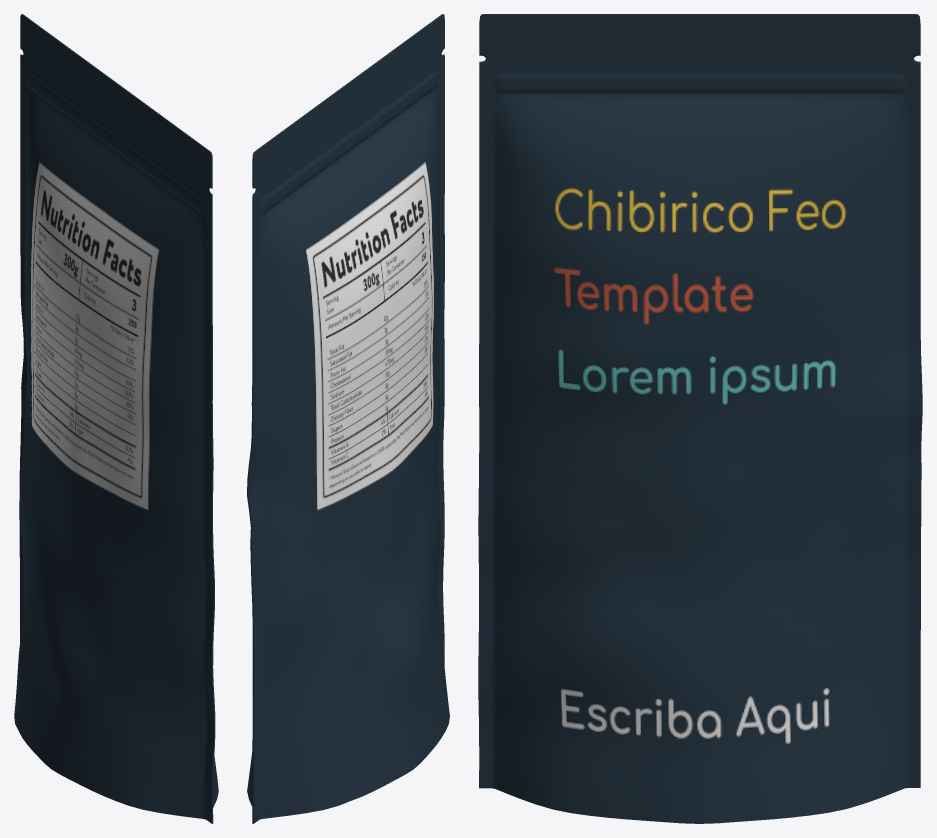
File: 3dmodel.glb
3 views of the same model, side by side, from view 1: azimuth 30°, elevation 25°; view 2: azimuth 150°, elevation 25°; view 3: azimuth 270°, elevation 25° (orthographic). The views are drawn at different scales.
Parts seen in each view (by area): view 1: ATR001; view 2: ATR001; view 3: ATR001.
Part boxes in pixels (x1,y1,x2,y2): ATR001: (14,14,218,823); ATR001: (247,14,449,823); ATR001: (478,14,922,823).
Bounding box in the file's own units: 0.063 × 0.3102 × 0.1615.
Materials: 1 (1 with a texture image).
